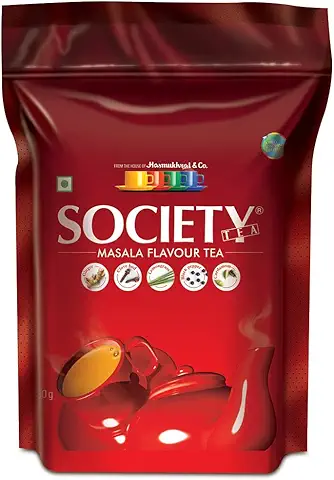Tea: (3, 7, 320, 479)
